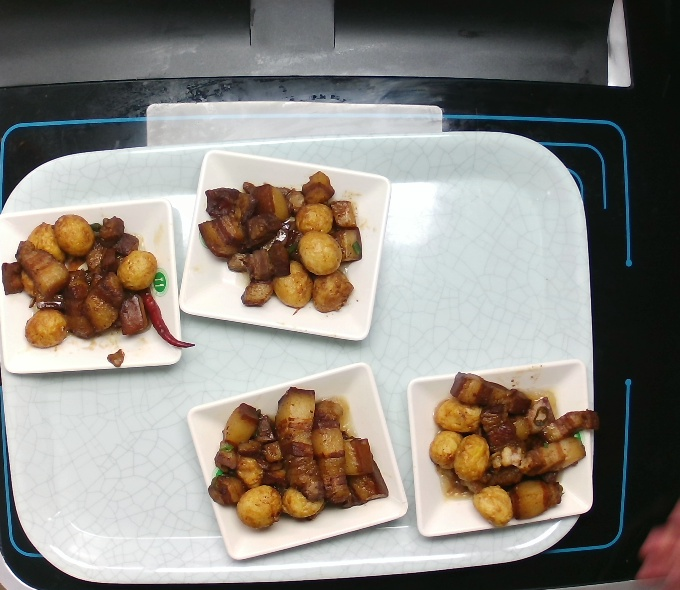wcq-HongShaoRouChaoAnChunDan: (412, 373, 603, 531), (195, 382, 386, 540), (194, 166, 385, 324), (2, 205, 193, 363)
